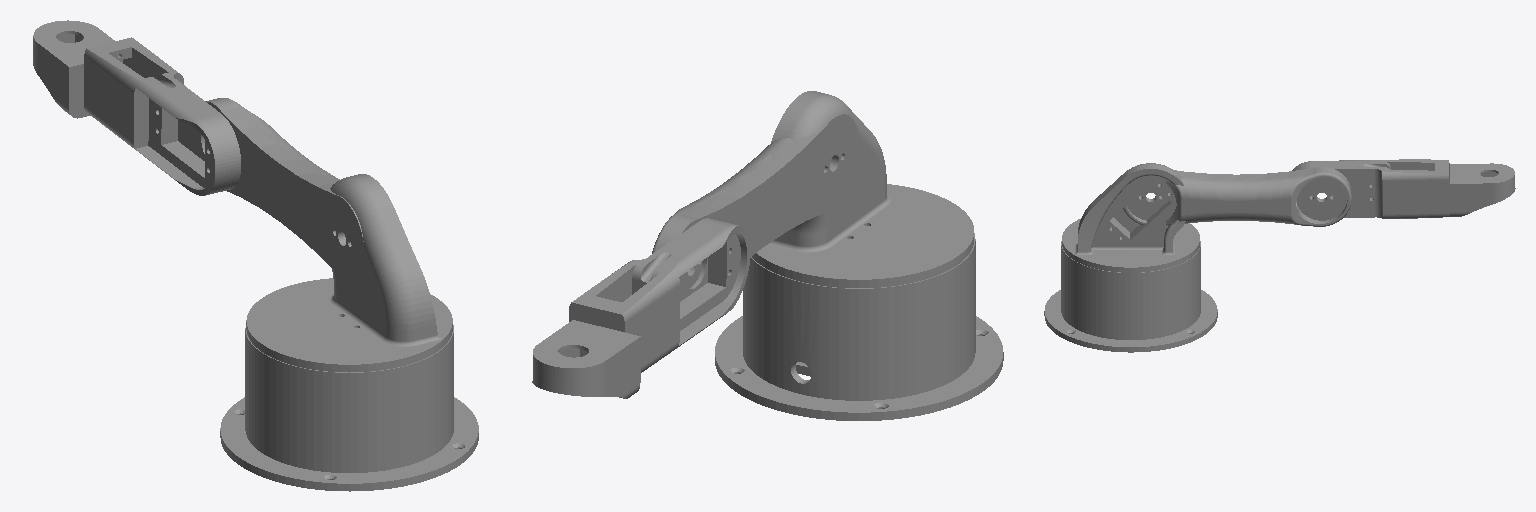
URDF robot description (onshape):
<robot name="onshape">
<link name="base">
<visual>
<origin xyz="0.001402378431521355889 -0.040152130182832479477 0.0047179359060526022268" rpy="-1.57079632679489678 -0 0" />
<geometry>
<mesh filename="package://duman_description/models/base.stl"/>
</geometry>
<material name="base_material">
<color rgba="0.62745098039215685404 0.62745098039215685404 0.62745098039215685404 1.0"/>
</material>
</visual>
<collision>
<origin xyz="0.001402378431521355889 -0.040152130182832479477 0.0047179359060526022268" rpy="-1.57079632679489678 -0 0" />
<geometry>
<mesh filename="package://duman_description/models/base.stl"/> 
</geometry>
</collision>
<inertial>
<origin xyz="0.001402387154487819837 -0.039055113999284497839 0.026824037016155939661" rpy="0 0 0"/>
<mass value="1.9998887505119995467" />
<inertia ixx="0.0028505289311519942282" ixy="-7.1160774783125495249e-10"  ixz="1.4844253339949402591e-10" iyy="0.0027242990722169493391" iyz="7.9478202315762654052e-05" izz="0.0043475671173903033054" />
</inertial>
</link>

<link name="waist">
<visual>
<origin xyz="0 0 0" rpy="-3.141592653589793116 -0 0" />
<geometry>
<mesh filename="package://duman_description/models/waist.stl"/>
</geometry>
<material name="waist_material">
<color rgba="0.62745098039215685404 0.62745098039215685404 0.62745098039215685404 1.0"/>
</material>
</visual>
<collision>
<origin xyz="0 0 0" rpy="-3.141592653589793116 -0 0" />
<geometry>
<mesh filename="package://duman_description/models/waist.stl"/>
</geometry>
</collision>
<inertial>
<origin xyz="0.0074945384719732333068 -0.0014294797341590965729 -0.019382837320359839334" rpy="0 0 0"/>
<mass value="0.092059501321271261509" />
<inertia ixx="8.4940822070763346706e-05" ixy="3.1823006080747615529e-07"  ixz="8.0371472269756596545e-06" iyy="6.2851629394466800157e-05" iyz="-8.4124008803628408945e-06" izz="7.5166939695310772932e-05" />
</inertial>
</link>

<link name="arm_01">
<visual>
<origin xyz="0 0 -0.021000000000000004774" rpy="-1.570796326794896558 -0 3.0814879110194624146e-33" />
<geometry>
<mesh filename="package://duman_description/models/arm_01.stl"/>
</geometry>
<material name="arm_01_material">
<color rgba="0.62745098039215685404 0.62745098039215685404 0.62745098039215685404 1.0"/>
</material>
</visual>
<collision>
<origin xyz="0 0 -0.021000000000000004774" rpy="-1.570796326794896558 -0 3.0814879110194624146e-33" />
<geometry>
<mesh filename="package://duman_description/models/arm_01.stl"/>
</geometry>
</collision>
<inertial>
<origin xyz="1.411892811959264447e-07 0.05999982424874553133 -0.0077715955787856783044" rpy="0 0 0"/>
<mass value="0.080081747849855444699" />
<inertia ixx="0.00012970764013443367049" ixy="6.2337379079988832336e-10"  ixz="1.8765984521855425809e-10" iyy="1.153639826760472303e-05" iyz="3.6199027491357569366e-12" izz="0.00013579564494234391174" />
</inertial>
</link>

<link name="arm_02">
<visual>
<origin xyz="0.034750000000000030864 0 0" rpy="1.570796326794896558 3.8127168428965674466e-49 1.0781407798703924805e-18" />
<geometry>
<mesh filename="package://duman_description/models/arm_02.stl"/>
</geometry>
<material name="arm_02_material">
<color rgba="0.62745098039215685404 0.62745098039215685404 0.62745098039215685404 1.0"/>
</material>
</visual>
<collision>
<origin xyz="0.034750000000000030864 0 0" rpy="1.570796326794896558 3.8127168428965674466e-49 1.0781407798703924805e-18" />
<geometry>
<mesh filename="package://duman_description/models/arm_02.stl"/>
</geometry>
</collision>
<inertial>
<origin xyz="0.041712028774720549817 3.1608016163132416547e-05 -0.0057199411333240697541" rpy="0 0 0"/>
<mass value="0.058871724077163213595" />
<inertia ixx="1.0903197339626600928e-05" ixy="-8.669313137033833522e-08"  ixz="-5.0399911663230070768e-07" iyy="6.4250083309512761058e-05" iyz="-2.9589785247060435818e-10" izz="6.8329319264391727602e-05" />
</inertial>
</link>

<link name="arm_03">
<visual>
<origin xyz="0.0050000000000000009714 1.3877787807814456755e-17 0" rpy="-3.141592653589793116 -4.0990865613284426651e-49 1.5452179334088460159e-48" />
<geometry>
<mesh filename="package://duman_description/models/arm_03.stl"/>
</geometry>
<material name="arm_03_material">
<color rgba="0.62745098039215685404 0.62745098039215685404 0.62745098039215685404 1.0"/>
</material>
</visual>
<collision>
<origin xyz="0.0050000000000000009714 1.3877787807814456755e-17 0" rpy="-3.141592653589793116 -4.0990865613284426651e-49 1.5452179334088460159e-48" />
<geometry>
<mesh filename="package://duman_description/models/arm_03.stl"/>
</geometry>
</collision>
<inertial>
<origin xyz="0.0050459674246820579099 -0.0052709836521303626497 -0.017807944241869835822" rpy="0 0 0"/>
<mass value="0.020587869336073170989" />
<inertia ixx="4.8747901077285755043e-06" ixy="-4.9857010404760316267e-09"  ixz="-1.4442552409285210189e-08" iyy="6.2597253867434263604e-06" iyz="-7.2145292659714469307e-07" izz="3.2611923197073779561e-06" />
</inertial>
</link>

<joint name="wrist_yaw" type="continuous">
<origin xyz="0.089750000000000024203 -0.0052999999999999991562 -0.0055000000000000126912" rpy="-3.141592653589793116 1.570796326794896558 0" />
<parent link="arm_02" />
<child link="arm_03" />
<axis xyz="0 0 1"/>
<limit effort="1" velocity="20" />
<joint_properties friction="0.0"/>
</joint>

<joint name="elbow" type="continuous">
<origin xyz="-2.6367796834847467835e-16 0.11999999999999932943 9.5409791178724390193e-18" rpy="-3.141592653589793116 0.0 1.5512410760365198392" />
<parent link="arm_01" />
<child link="arm_02" />
<axis xyz="0 0 1"/>
<limit effort="1" velocity="20" />
<joint_properties friction="0.0"/>
</joint>

<joint name="shoulder" type="continuous">
<origin xyz="0.0039999999999999974812 -0.013910000000000005693 -0.040279999999999982485" rpy="-3.141592653589793116 1.570796326794896558 0" />
<parent link="waist" />
<child link="arm_01" />
<axis xyz="0 0 1"/>
<limit effort="1" velocity="20" />
<joint_properties friction="0.0"/>
</joint>

<joint name="hip" type="continuous">
<origin xyz="0.0014023784315213561058 -0.040152130182832479477 0.060717935906052615536" rpy="3.141592653589793116 -0 0" />
<parent link="base" />
<child link="waist" />
<axis xyz="0 0 1"/>
<limit effort="1" velocity="20" />
<joint_properties friction="0.0"/>
</joint>


</robot>

--- Facts derived from the render (not from the file) ---
Views: 3 orthographic renders of the robot side by side, from view 1: azimuth 30°, elevation 25°; view 2: azimuth 150°, elevation 25°; view 3: azimuth 270°, elevation 25°.
Model onshape with 5 links and 4 joints (4 continuous), rooted at base, posed every joint at zero.
Visible links, largest first — view 1: base, waist, arm_02, arm_01, arm_03; view 2: base, waist, arm_02, arm_01, arm_03; view 3: base, arm_01, waist, arm_02, arm_03.
Boxes of the visible links, <box> form: base: <box>220,325,478,491</box>; waist: <box>246,174,452,372</box>; arm_02: <box>84,37,240,195</box>; arm_01: <box>205,98,363,281</box>; arm_03: <box>33,20,114,118</box>; base: <box>715,233,1003,420</box>; waist: <box>752,91,973,287</box>; arm_02: <box>569,218,750,372</box>; arm_01: <box>652,114,858,287</box>; arm_03: <box>532,320,640,398</box>; base: <box>1044,241,1217,352</box>; arm_01: <box>1123,167,1351,226</box>; waist: <box>1062,163,1199,272</box>; arm_02: <box>1292,159,1449,218</box>; arm_03: <box>1450,163,1515,216</box>.
Bounding box of the posed robot: 0.1215 × 0.3304 × 0.1238 m (x, y, z).
5 mesh visuals loaded from 5 distinct referenced files (5 binary STL).
